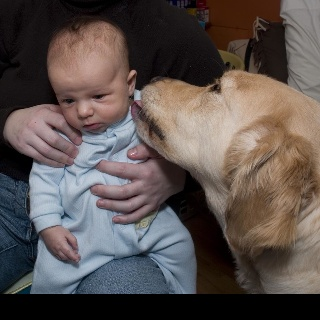without_mask: (47, 13, 136, 133)
